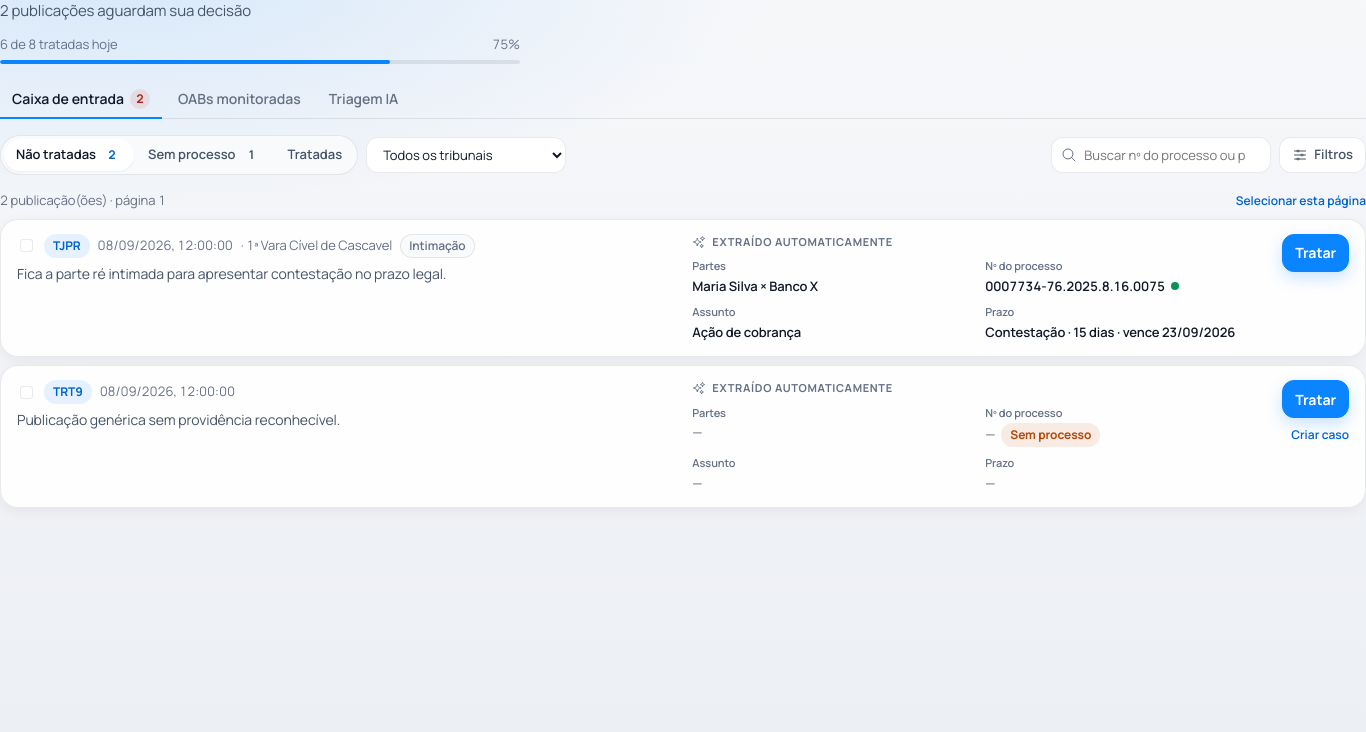
DjenPage — Intimações (redesign Stitch) › em ≥ lg o "Tratar" abre o painel lateral sticky (não modal)
What coordinates should you click on to do the following:
click the button with test id "btn-tratar-11"
I would click on:
 (1316, 253)
Its box is left=1282, top=234, right=1349, bottom=272.
(page scrolled)
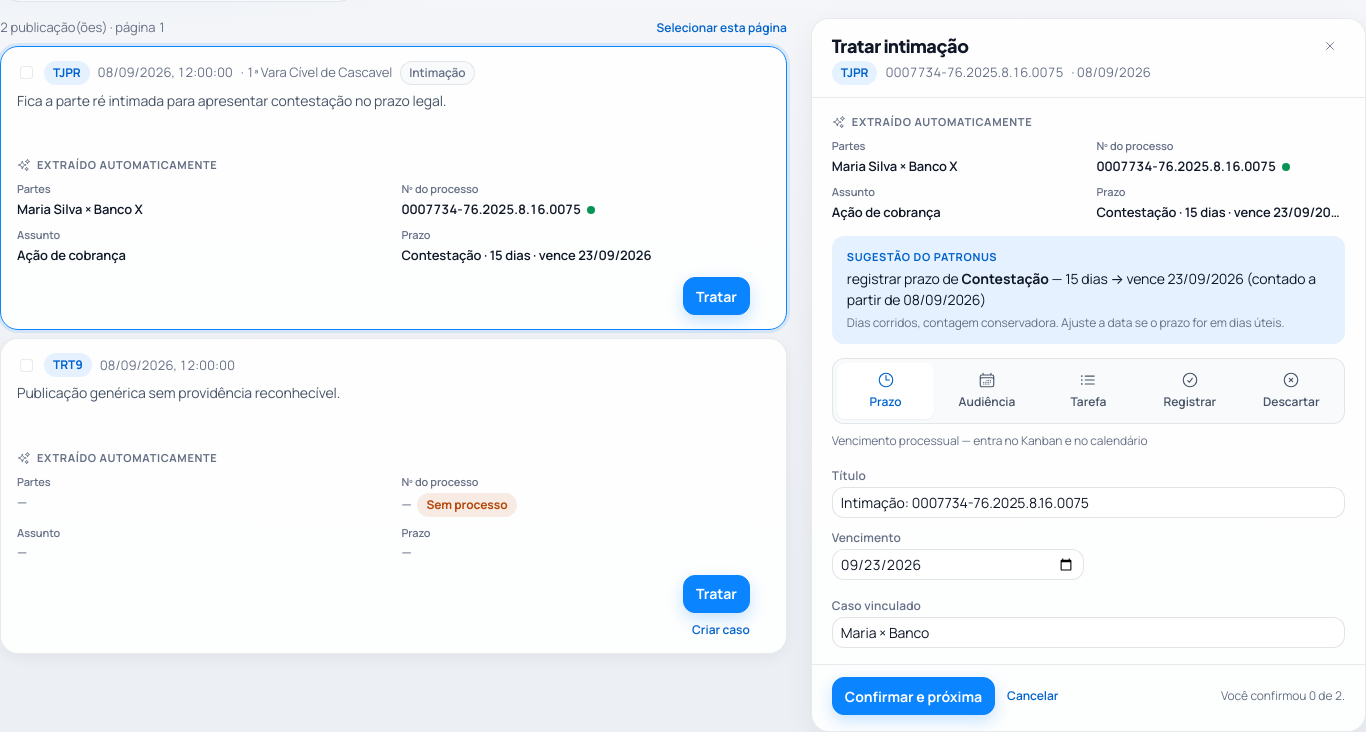
Expected: the element with test id "tratar-intimacao-painel" is shown, left=811, top=18, right=1365, bottom=731
Expected: the element with test id "sugestao-patronus" shows "registrar prazo de Contestação — 15 dias → vence 23/09/2026", left=832, top=236, right=1345, bottom=344
Expected: the text with test id "tratar-progresso" reads "Você confirmou 0 de 2.", left=1221, top=687, right=1345, bottom=705
